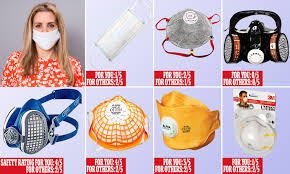masked: (22, 3, 67, 53)
